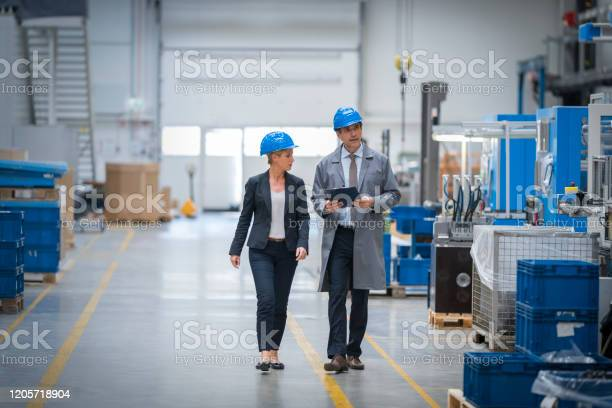person: (312, 108, 401, 373), (229, 132, 309, 369)
